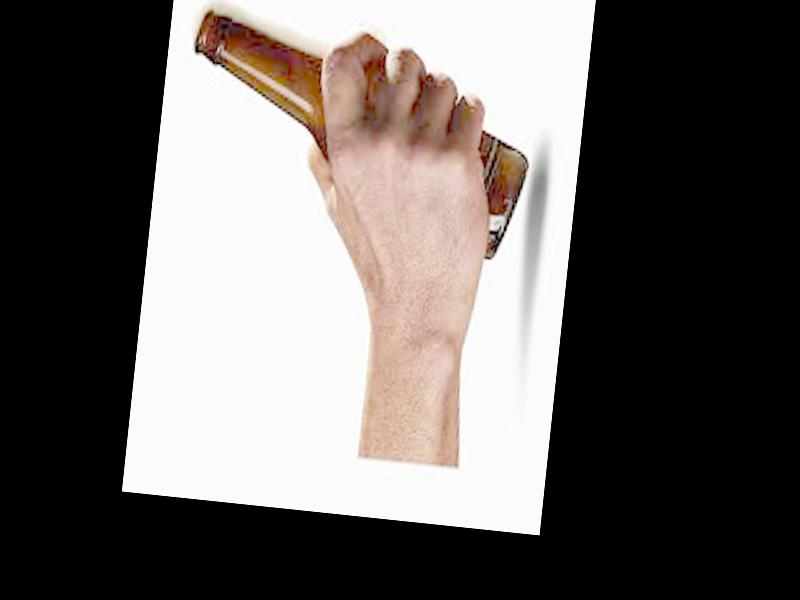Beer: (176, 8, 545, 262)
